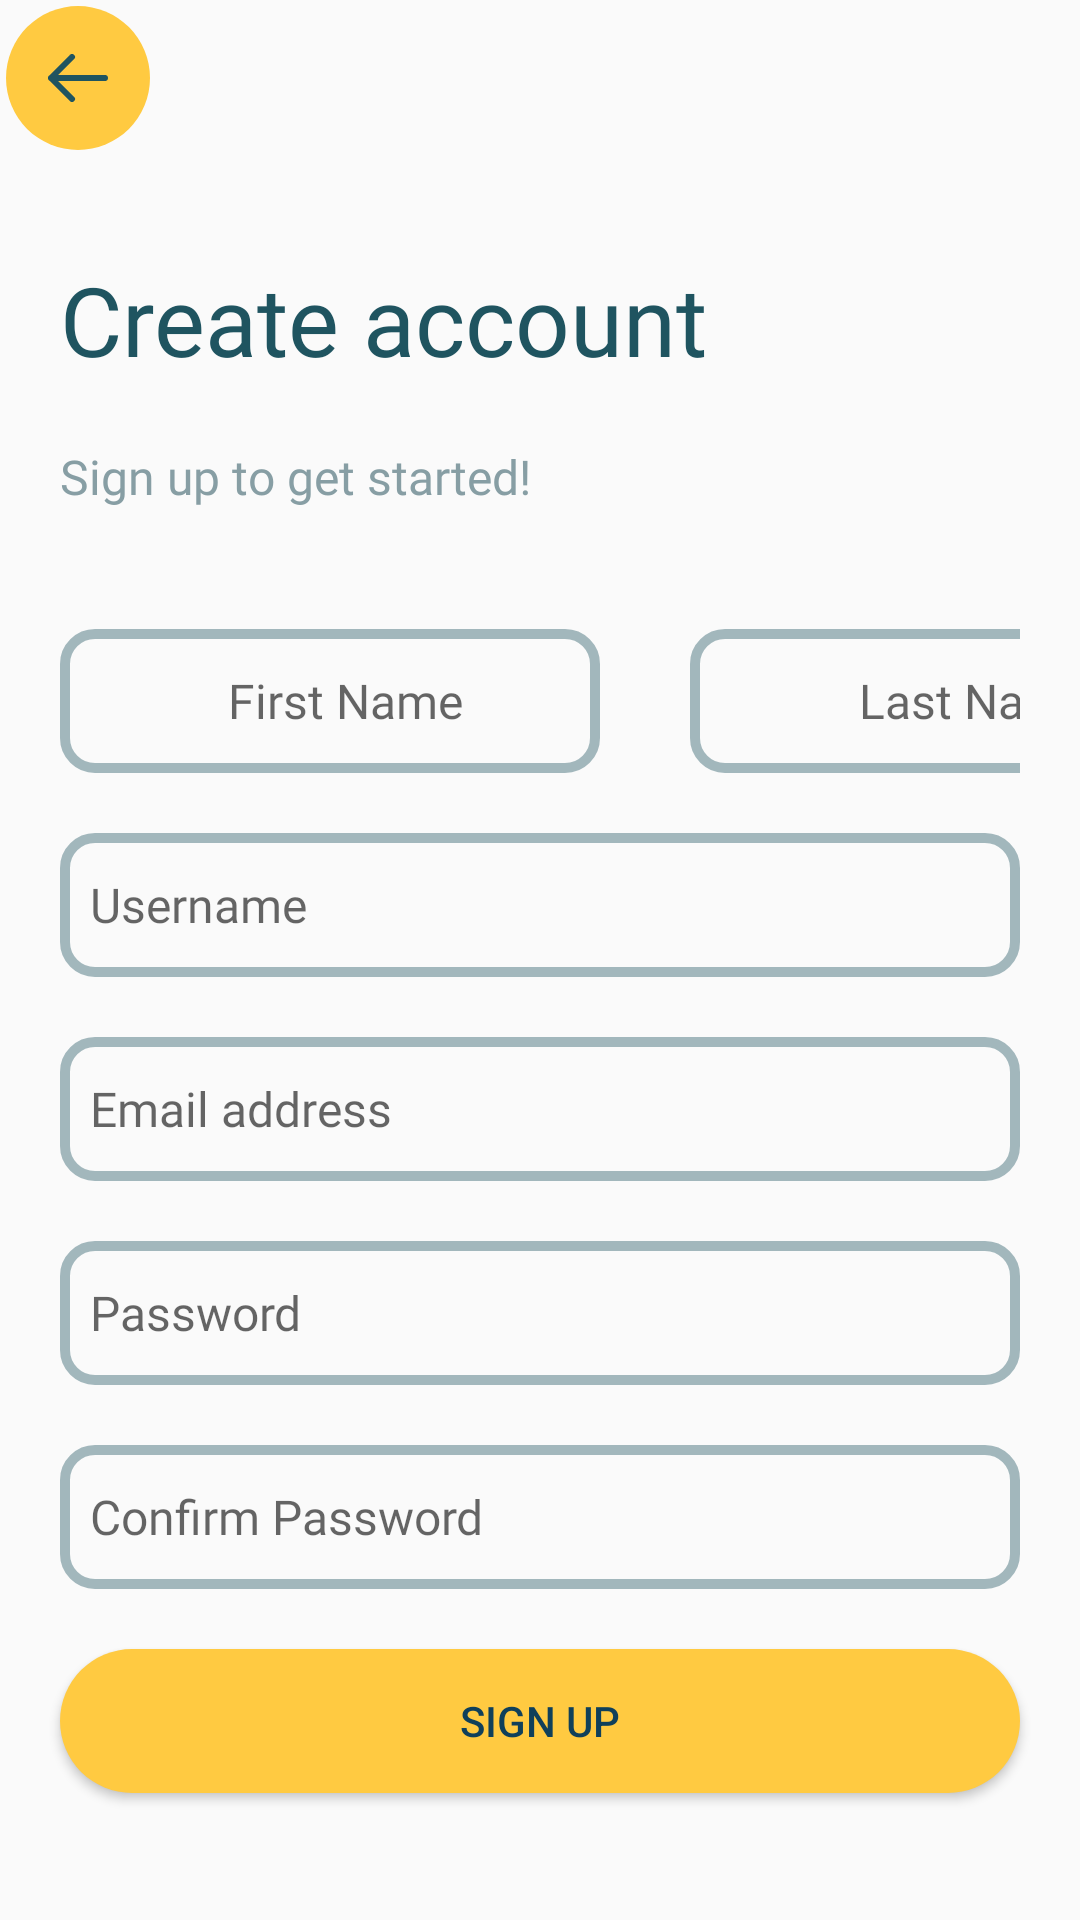

Named icons in this screenshot (1080px×1920px) and their centers, [x,y]:
Go Back: [78,78]
